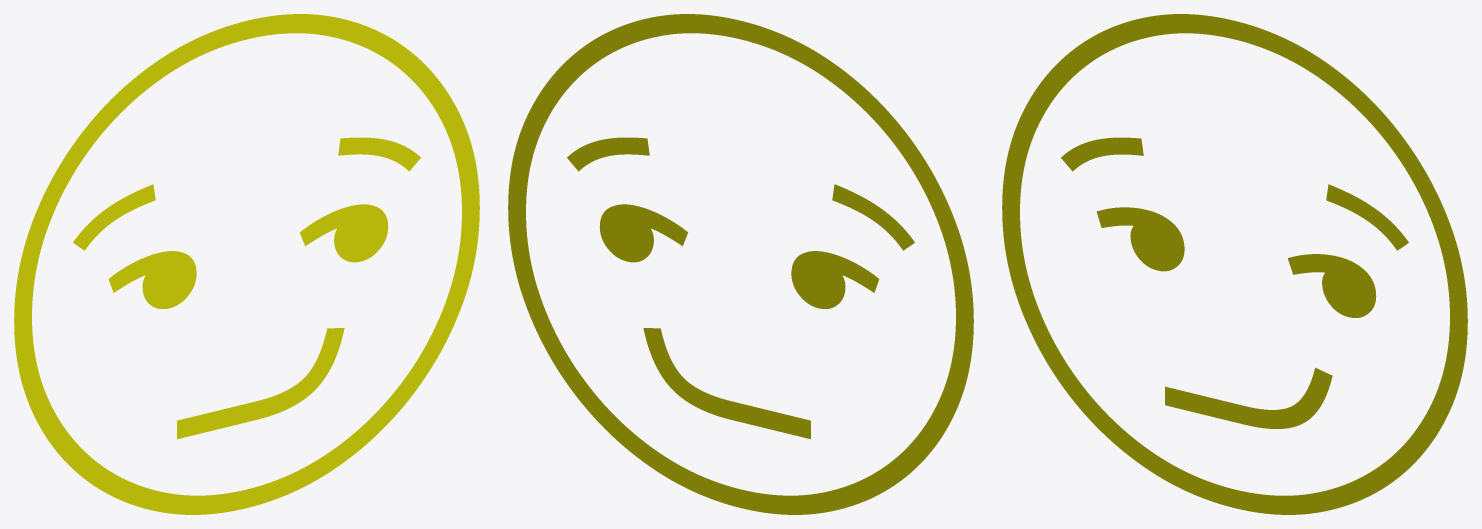
File: smirk.glb
3 views of the same model, side by side, from view 1: azimuth 30°, elevation 25°; view 2: azimuth 150°, elevation 25°; view 3: azimuth 330°, elevation 25° (orthographic).
Visible parts, largest first — view 1: Text.534_534; view 2: Text.534_534; view 3: Text.534_534.
Part boxes in pixels (<box>): Text.534_534: <box>14,14,479,514</box>; Text.534_534: <box>508,14,973,514</box>; Text.534_534: <box>1002,14,1467,514</box>.
Size of the model in its own units: 1.02 by 1.02 by 3.6e-06.
